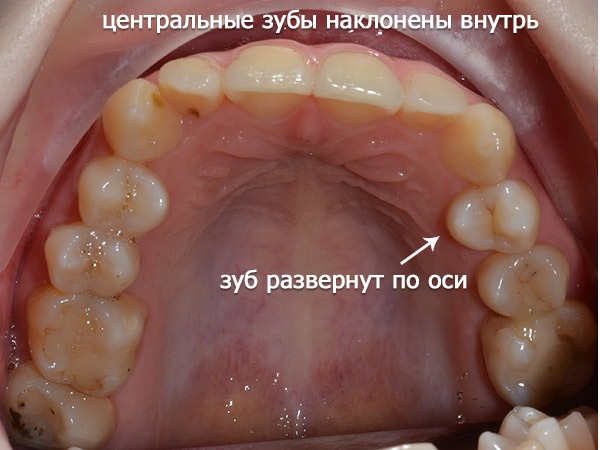UL1BC_decay: (447, 180, 538, 251)
UL1M_decay: (483, 315, 594, 401)
UL2BC_decay: (479, 251, 566, 314)
ULCI_healthy: (314, 52, 400, 122)
ULC_healthy: (450, 103, 515, 184)
ULLI_healthy: (404, 74, 465, 122)
UR1BC_healthy: (78, 161, 168, 234)
UR1M_decay: (29, 294, 142, 394)
UR2BC_healthy: (46, 228, 138, 293)
UR2M_decay: (8, 375, 113, 448)
URCI_healthy: (224, 45, 311, 112)
URC_decay: (103, 79, 182, 161)
URLI_decay: (160, 58, 223, 119)
